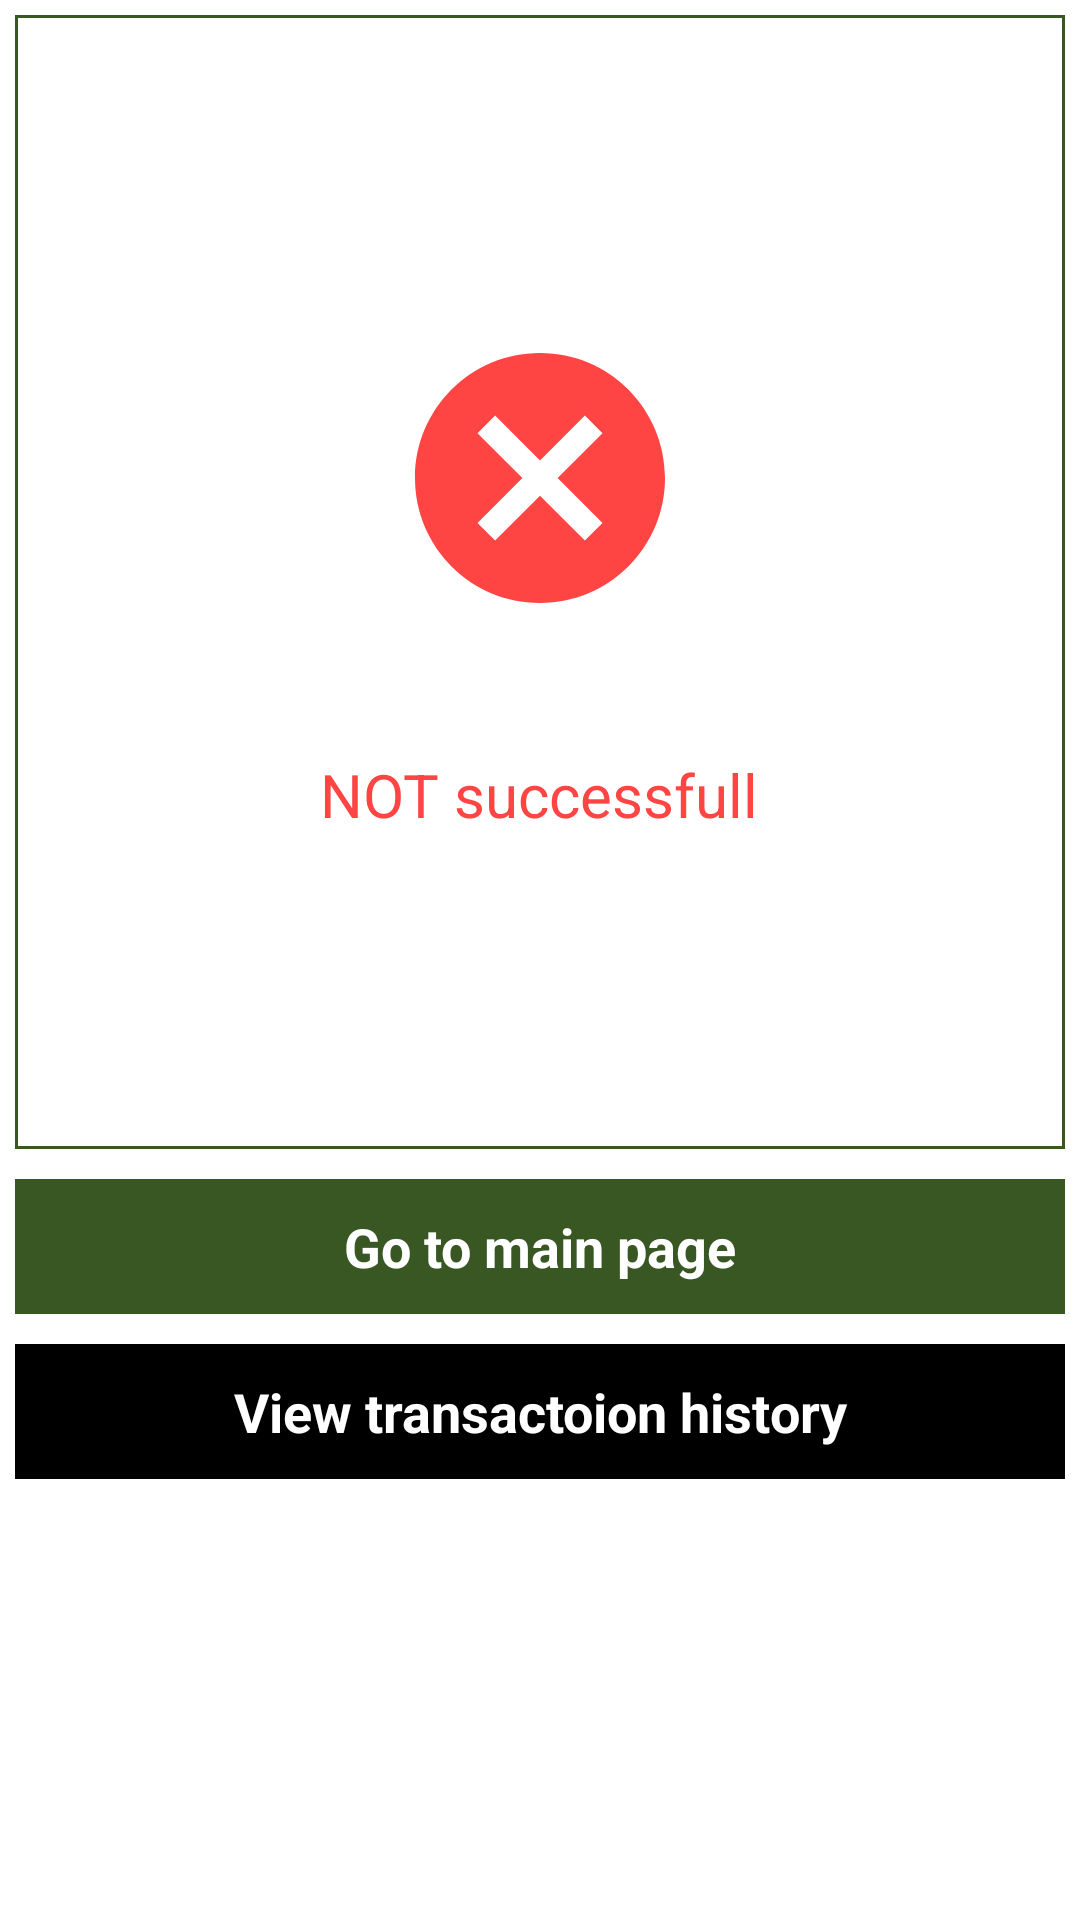

Where icons sit on this 1080 × 1920 app screen, as (x1, y1, x2, y2):
cancel: (415, 353, 665, 603)
